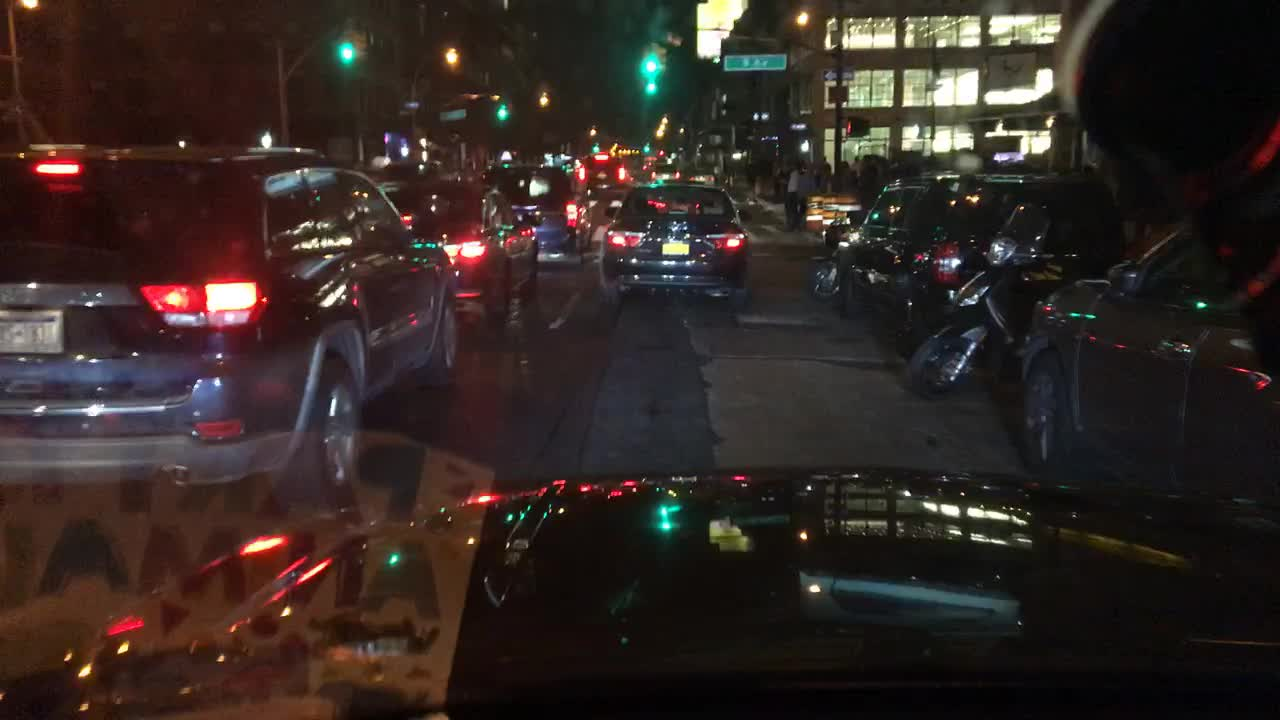car: (7, 136, 460, 520), (1016, 216, 1279, 500), (839, 170, 1131, 348), (377, 173, 542, 325), (600, 185, 753, 312), (485, 158, 600, 254), (569, 149, 634, 205), (808, 187, 871, 237)
motor: (908, 199, 1079, 402), (810, 210, 867, 302)
person: (784, 159, 808, 235), (860, 151, 881, 205), (806, 163, 827, 203), (776, 160, 789, 204)
traffic light: (841, 114, 867, 135), (354, 28, 367, 66), (339, 29, 351, 66), (657, 45, 668, 74), (647, 44, 655, 77), (798, 137, 811, 152), (506, 98, 514, 120), (646, 79, 655, 96), (497, 98, 504, 118)
traffic sign: (988, 46, 1039, 89), (721, 54, 788, 67), (823, 67, 853, 80), (825, 86, 849, 102), (440, 108, 469, 120), (402, 100, 423, 111), (786, 119, 807, 130), (795, 106, 815, 113)
